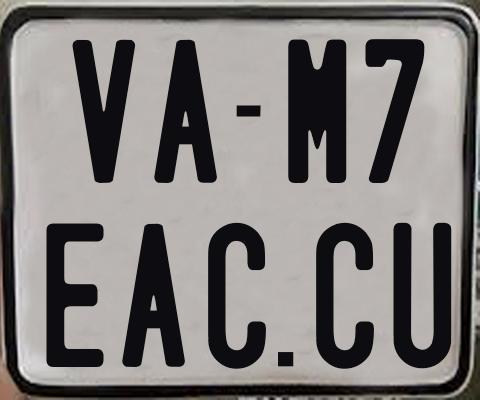7: (364, 38, 423, 185)
A: (154, 38, 219, 185), (121, 221, 184, 367)
C: (208, 221, 267, 373), (313, 220, 371, 372)
E: (44, 222, 107, 368)
M: (286, 38, 348, 186)
U: (392, 222, 456, 367)
V: (69, 37, 133, 184)
